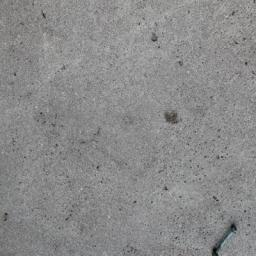FOD: (209, 223, 241, 256)
